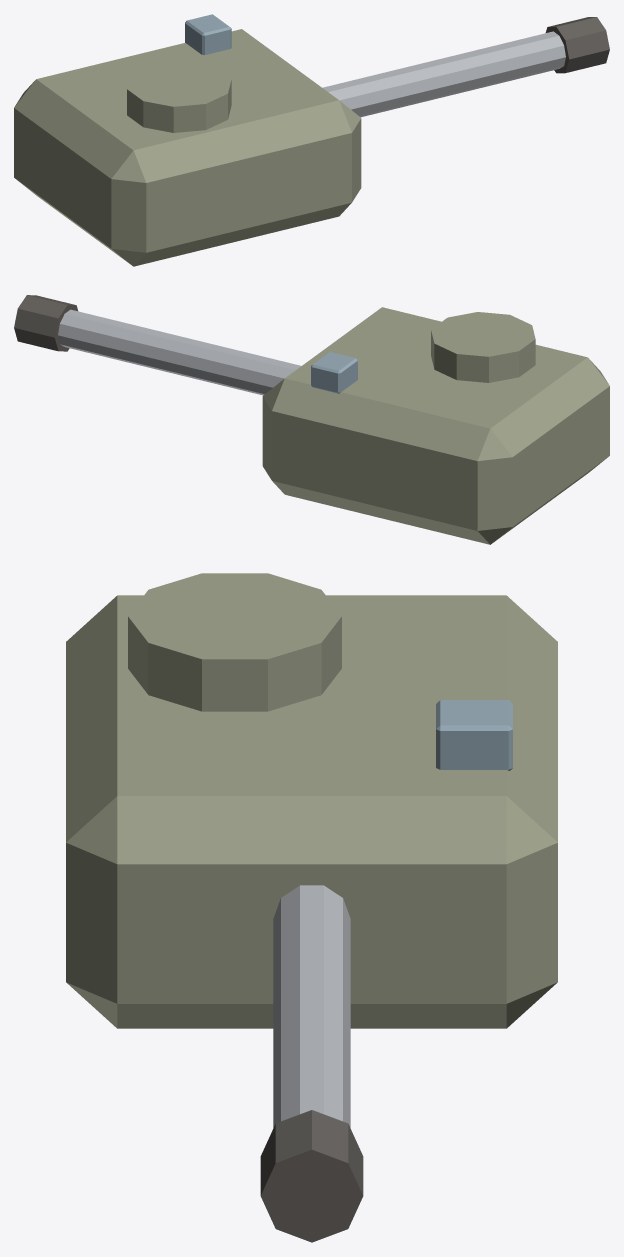
The model's file is tank_turret.glb.
3 views of the same model, one above another, from view 1: azimuth 30°, elevation 25°; view 2: azimuth 150°, elevation 25°; view 3: azimuth 270°, elevation 25° (orthographic). The views are drawn at different scales.
Visible parts, largest first — view 1: Armored turret, Main gun, Cupola, Muzzle, Optics; view 2: Armored turret, Main gun, Cupola, Muzzle, Optics; view 3: Armored turret, Cupola, Main gun, Muzzle, Optics.
Part boxes in pixels (bbox=[...]): Armored turret: bbox=[14, 29, 361, 266]; Main gun: bbox=[322, 31, 565, 117]; Cupola: bbox=[127, 62, 231, 132]; Muzzle: bbox=[545, 17, 609, 73]; Optics: bbox=[185, 14, 231, 55]; Armored turret: bbox=[262, 307, 609, 544]; Main gun: bbox=[58, 309, 300, 395]; Cupola: bbox=[431, 312, 535, 382]; Muzzle: bbox=[14, 295, 77, 351]; Optics: bbox=[311, 352, 357, 393]; Armored turret: bbox=[66, 595, 557, 1028]; Cupola: bbox=[128, 573, 341, 711]; Main gun: bbox=[273, 885, 350, 1127]; Muzzle: bbox=[260, 1110, 363, 1242]; Optics: bbox=[436, 700, 512, 770].
Bounding box in the file's own units: 0.2885 × 0.0735 × 0.115.
